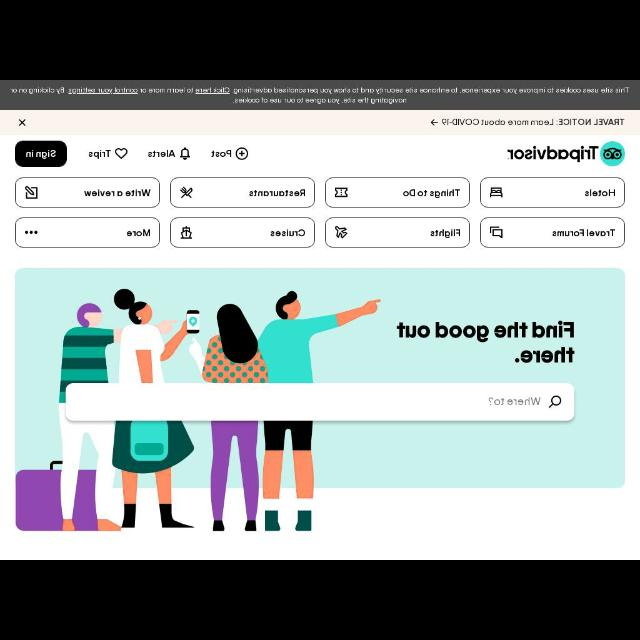backgroundimage: (15, 268, 625, 532)
icon: (548, 395, 562, 409), (114, 148, 128, 160), (489, 187, 503, 199), (334, 187, 348, 199), (179, 187, 193, 199), (25, 187, 39, 199), (489, 226, 503, 238), (334, 226, 348, 238), (179, 227, 193, 239), (236, 147, 248, 159), (180, 147, 190, 161), (24, 229, 38, 235), (429, 119, 438, 127), (18, 118, 27, 126)
image: (506, 142, 626, 166)
input: (66, 384, 574, 422)
multitab: (87, 147, 247, 161)
text: (10, 86, 630, 105), (397, 321, 575, 364), (440, 118, 626, 126), (84, 188, 152, 200), (552, 228, 616, 238), (488, 397, 542, 408), (403, 188, 461, 198), (249, 188, 307, 198), (431, 228, 462, 240), (26, 148, 56, 160), (270, 228, 306, 238), (584, 188, 616, 198), (148, 148, 176, 158), (210, 148, 232, 160), (126, 228, 152, 238), (87, 149, 111, 159)
textbutton: (324, 178, 470, 208), (324, 217, 470, 247), (170, 218, 316, 248), (480, 178, 624, 208), (16, 177, 160, 207), (170, 178, 314, 208), (480, 217, 624, 247), (16, 218, 160, 248), (15, 142, 67, 166)
